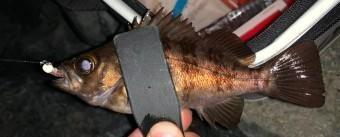fish: (53, 7, 325, 129)
